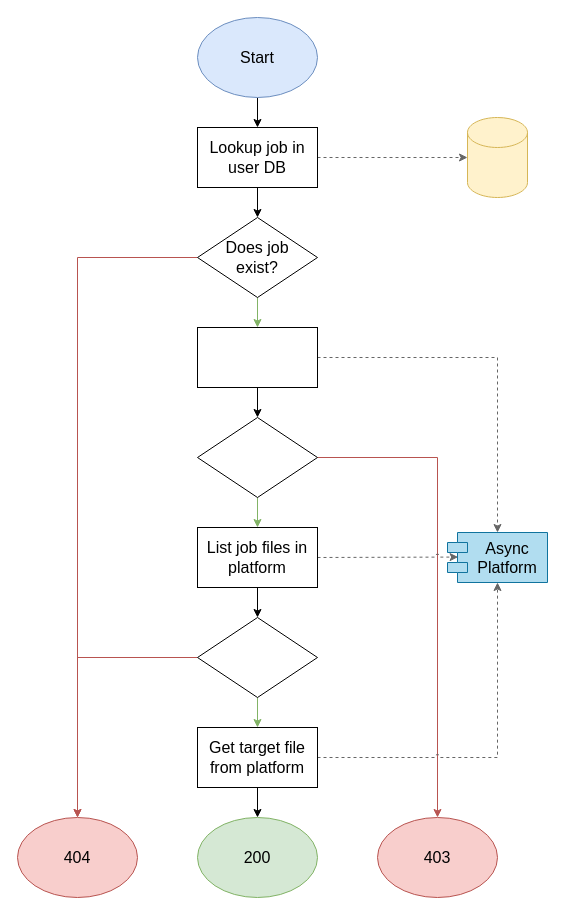
This 565x915 diagram has some shape labels left out. Here are the shapes that lost their labels. From the top down, the centre of each, then its label:
At point (497, 157): "User DB".
At point (257, 357): "Lookup job in platform".
At point (257, 457): "Is job status 'complete'?".
At point (257, 657): "Does target file exist?".
